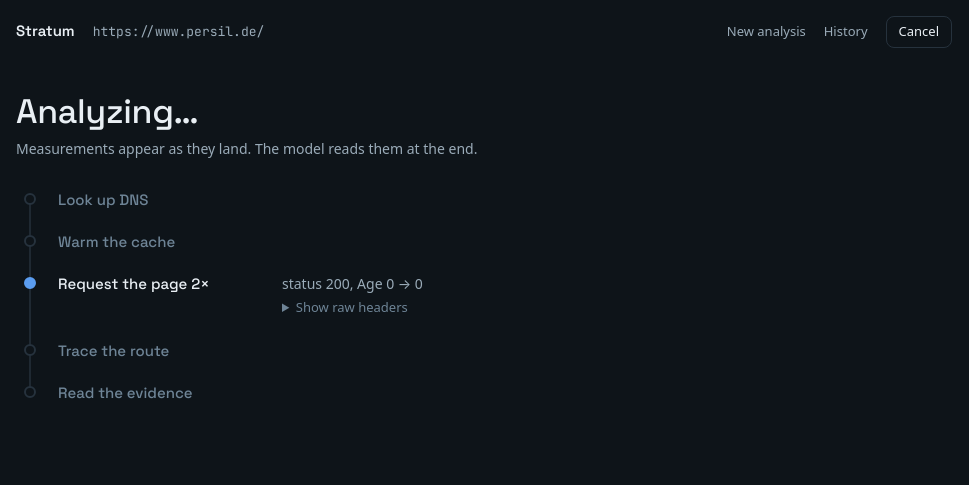
it: raw headers disclosure shows request 1 as it lands
Step 1. Click the heading "Show raw headers" → (352, 307), box top-left (296, 298), bottom-right (408, 316)
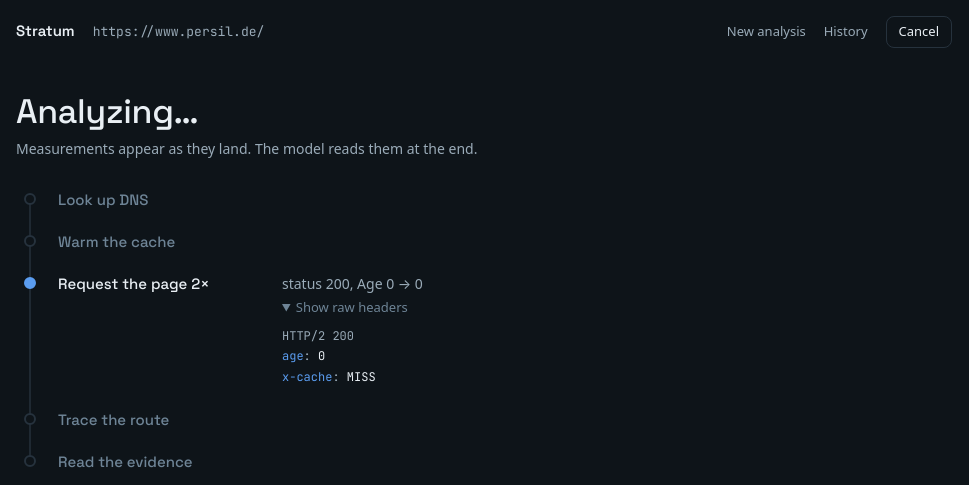
Result: the text "x-cache" is shown at top-left (282, 369), bottom-right (332, 385)
